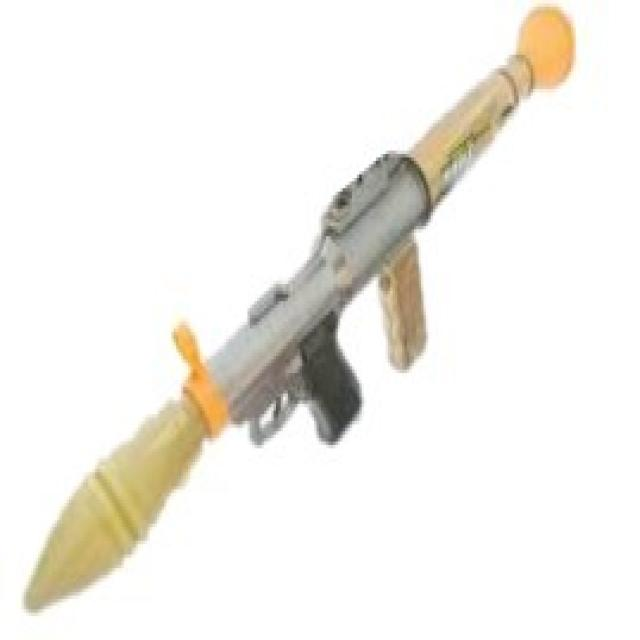bazooka: (20, 2, 582, 622)
